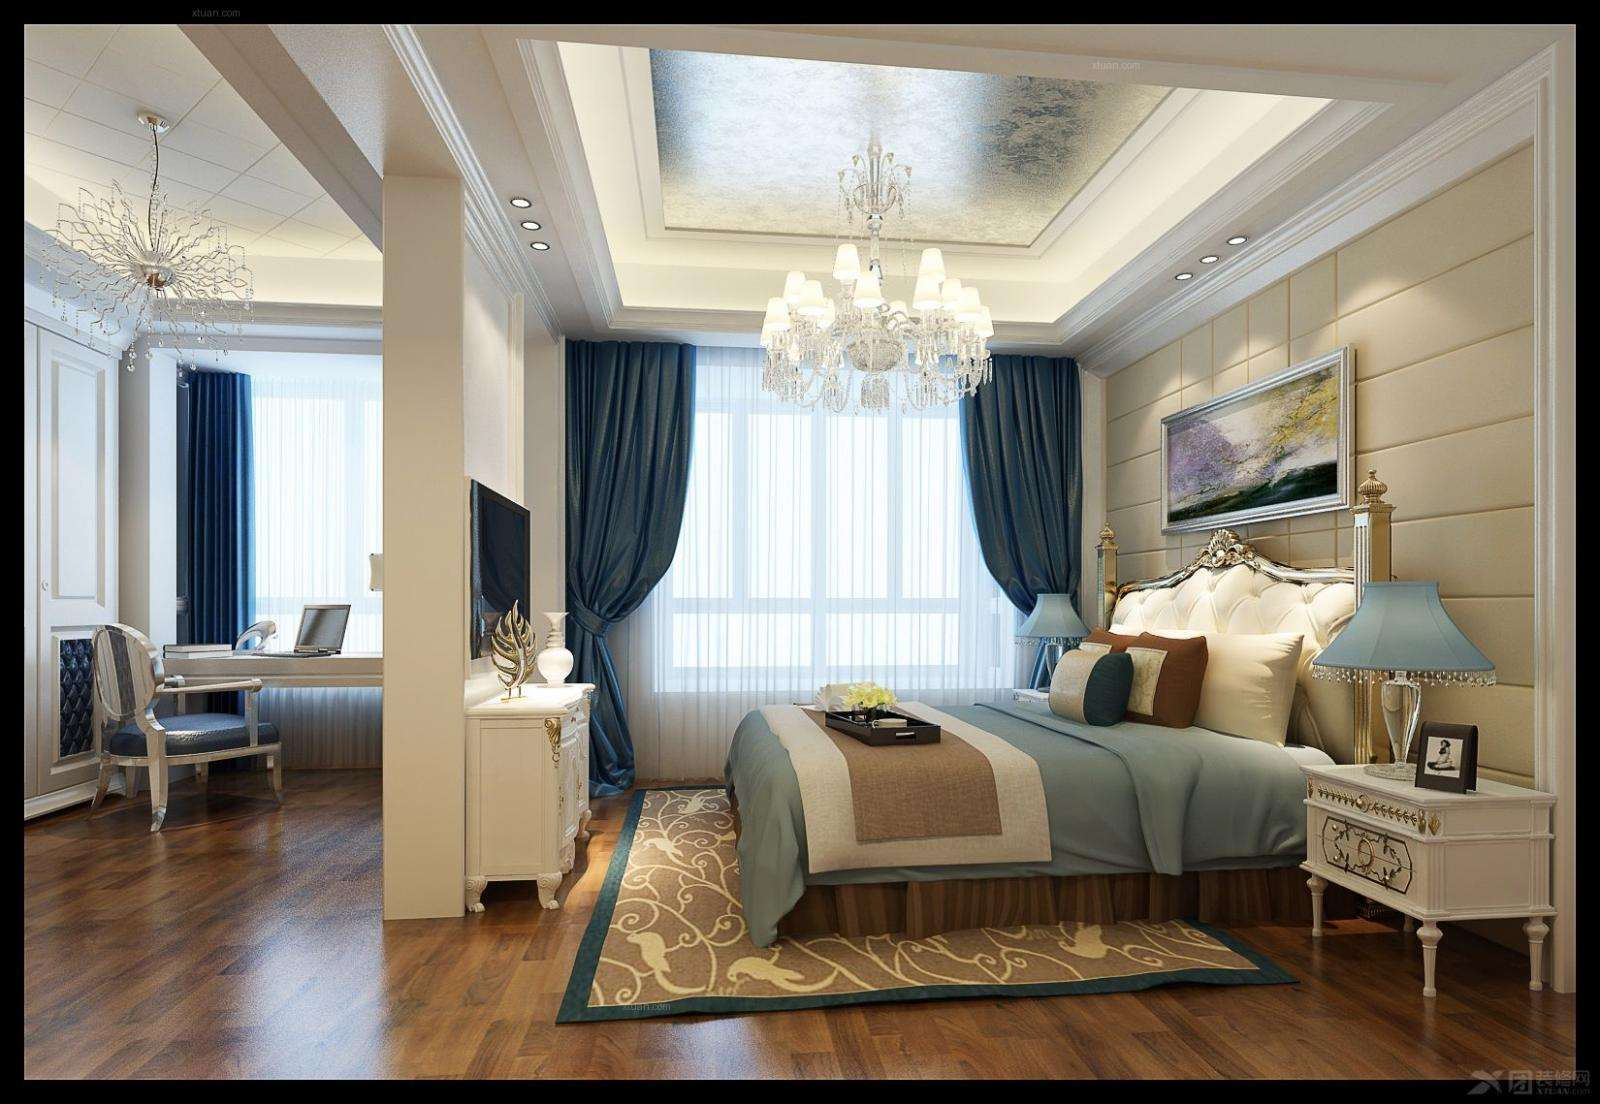床: (728, 692, 1359, 930)
枕头: (1093, 548, 1354, 737)
灯: (747, 140, 995, 428), (43, 117, 270, 392), (1309, 576, 1478, 781), (1016, 593, 1097, 697), (501, 184, 564, 266), (1162, 232, 1253, 286)
